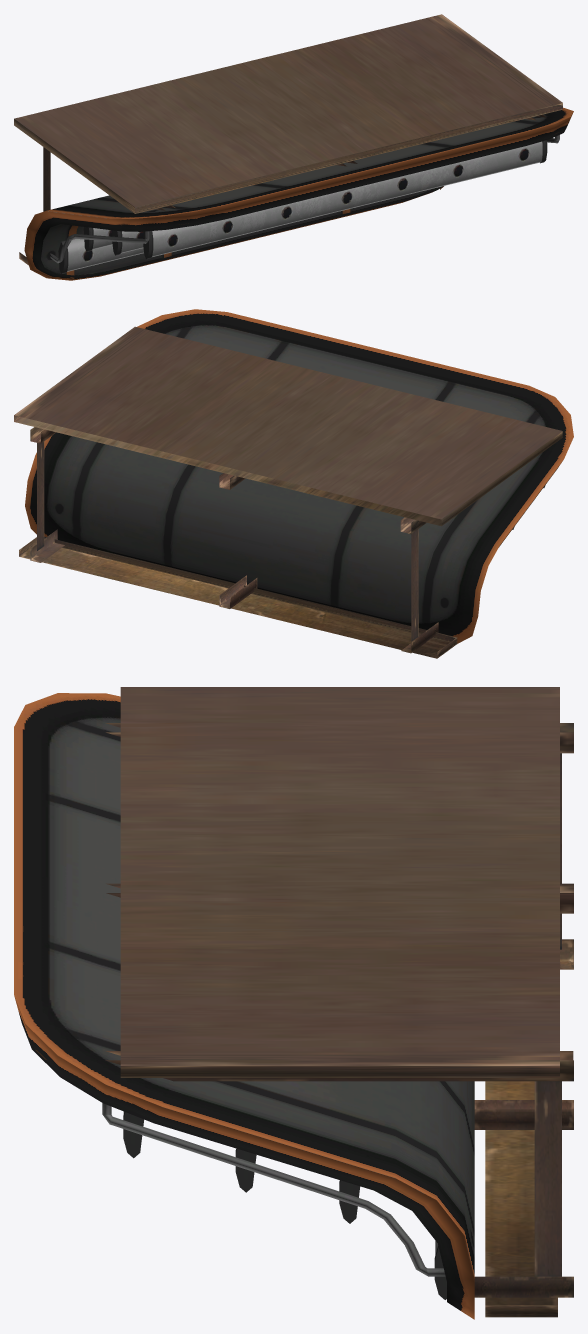
File: nt_hydro_cabbage_holders_LOD3.obj
3 renders of one model, top to bottom at view 1: azimuth 30°, elevation 25°; view 2: azimuth 150°, elevation 25°; view 3: azimuth 270°, elevation 25°, orthographic. The views are drawn at different scales.
Visible parts, largest first — view 1: mtl_p_jun_bench_wood_weathered01, mtl_nt_hydro_cabbage_holders, nt_2020_pipes_ceramic_holes; view 2: mtl_p_jun_bench_wood_weathered01, mtl_nt_hydro_cabbage_holders; view 3: mtl_p_jun_bench_wood_weathered01, mtl_nt_hydro_cabbage_holders, nt_2020_pipes_ceramic_holes.
Boxes of the visible parts, x1,y1,x2,y2 form: mtl_p_jun_bench_wood_weathered01: [14, 14, 562, 265]; mtl_nt_hydro_cabbage_holders: [24, 107, 573, 280]; nt_2020_pipes_ceramic_holes: [58, 140, 547, 273]; mtl_p_jun_bench_wood_weathered01: [14, 326, 562, 658]; mtl_nt_hydro_cabbage_holders: [25, 309, 573, 643]; mtl_p_jun_bench_wood_weathered01: [105, 687, 573, 1317]; mtl_nt_hydro_cabbage_holders: [14, 693, 474, 1319]; nt_2020_pipes_ceramic_holes: [123, 1111, 446, 1299].
Size of the model in its own units: 325 by 113 by 192.
